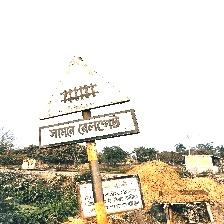Rail-crossing: (38, 57, 139, 151)
